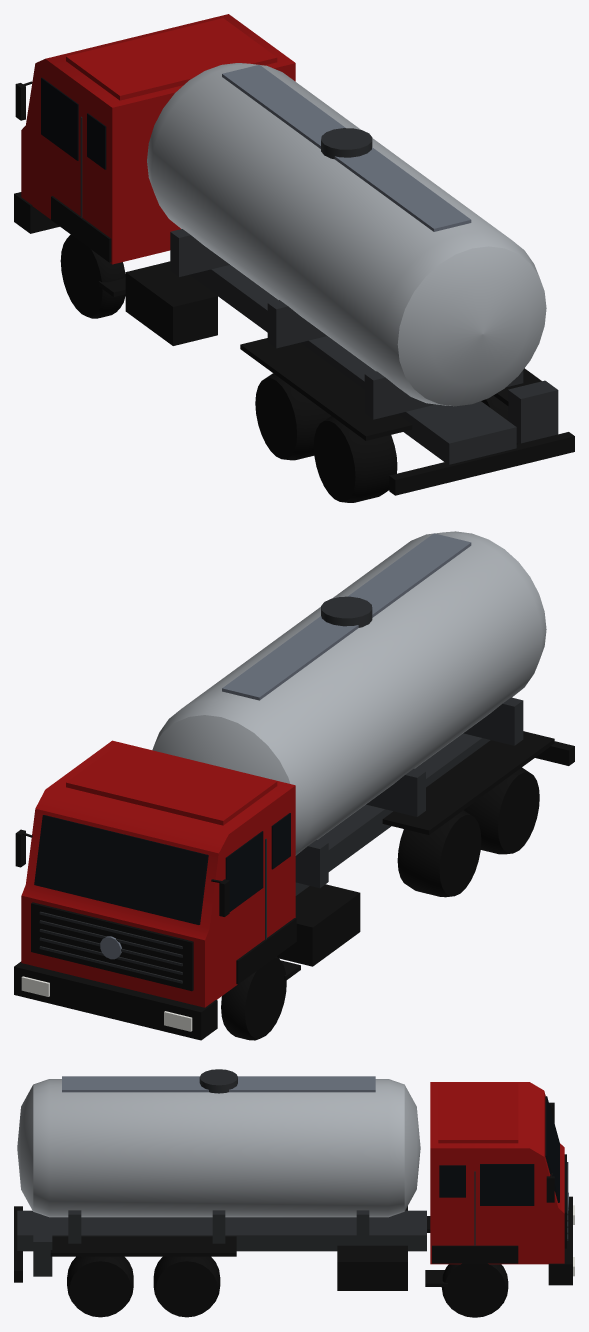
File: plant.truck.tanker.glb
The picture shows the model from 3 angles, top to bottom: view 1: azimuth 30°, elevation 25°; view 2: azimuth 150°, elevation 25°; view 3: azimuth 270°, elevation 25°; orthographic projection. The views are drawn at different scales.
Parts seen in each view (by area): view 1: body__steel_galvanised, chassis__car_red, chassis__plastic_black, wheels__rubber, body__steel_dark, chassis__steel_dark, body__steel_painted, chassis__glass_dark; view 2: body__steel_galvanised, chassis__car_red, chassis__plastic_black, chassis__glass_dark, wheels__rubber, body__steel_painted, chassis__steel_dark, body__steel_dark, chassis__paint_white; view 3: body__steel_galvanised, chassis__car_red, chassis__plastic_black, chassis__steel_dark, wheels__rubber, body__steel_painted, chassis__glass_dark, body__steel_dark.
Part boxes in pixels (bbox=[...]): body__steel_galvanised: bbox=[147, 63, 546, 406]; chassis__car_red: bbox=[21, 14, 295, 264]; chassis__plastic_black: bbox=[14, 81, 574, 495]; wheels__rubber: bbox=[60, 234, 517, 502]; body__steel_dark: bbox=[170, 128, 558, 443]; chassis__steel_dark: bbox=[80, 116, 516, 464]; body__steel_painted: bbox=[222, 64, 471, 231]; chassis__glass_dark: bbox=[41, 77, 106, 169]; body__steel_galvanised: bbox=[152, 531, 546, 855]; chassis__car_red: bbox=[21, 740, 295, 1007]; chassis__plastic_black: bbox=[14, 731, 574, 1040]; chassis__glass_dark: bbox=[34, 813, 290, 924]; wheels__rubber: bbox=[221, 767, 539, 1040]; body__steel_painted: bbox=[222, 533, 471, 700]; chassis__steel_dark: bbox=[39, 733, 490, 983]; body__steel_dark: bbox=[295, 596, 523, 888]; chassis__paint_white: bbox=[21, 976, 192, 1031]; body__steel_galvanised: bbox=[17, 1079, 420, 1217]; chassis__car_red: bbox=[430, 1082, 564, 1264]; chassis__plastic_black: bbox=[14, 1102, 572, 1290]; chassis__steel_dark: bbox=[17, 1162, 568, 1251]; wheels__rubber: bbox=[67, 1256, 508, 1317]; body__steel_painted: bbox=[62, 1076, 375, 1092]; chassis__glass_dark: bbox=[439, 1096, 559, 1205]; body__steel_dark: bbox=[33, 1069, 369, 1276].
Size of the model in its own units: 2.79 by 3.6 by 8.76.
